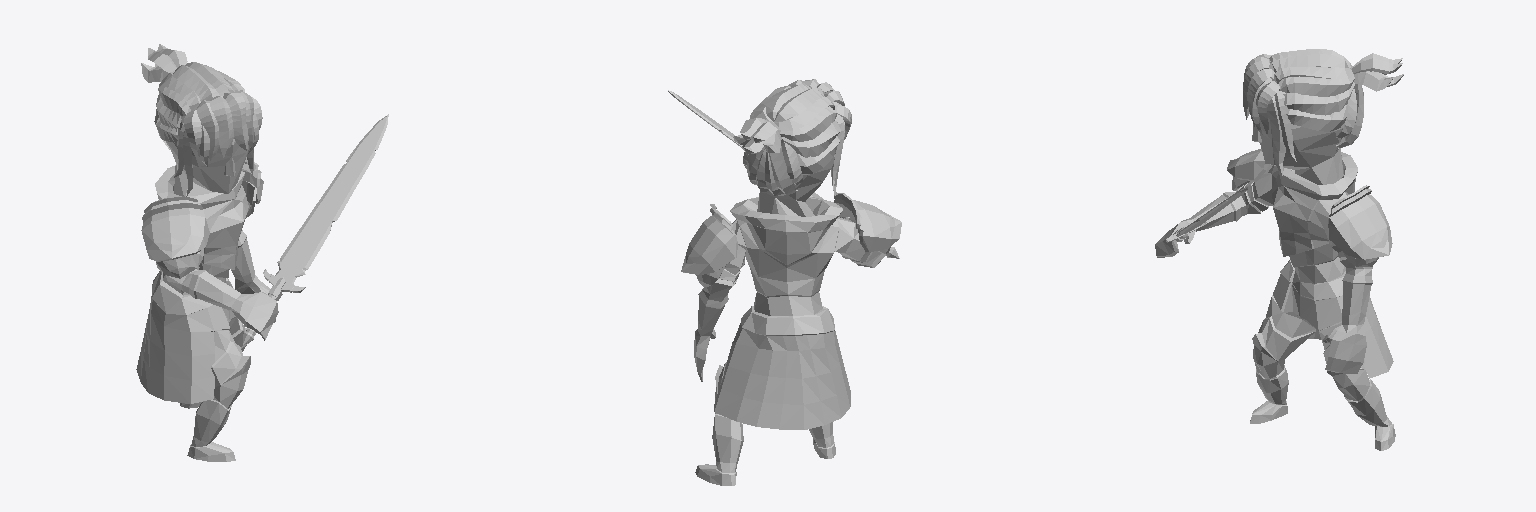
3 renders of one model, left to right at view 1: azimuth 30°, elevation 25°; view 2: azimuth 150°, elevation 25°; view 3: azimuth 270°, elevation 25°, orthographic.
Parts seen in each view (by area): view 1: Warrior.002__ncl1_29.005, Face__ncl1_29.002, Warrior_Sword_Cylinder.001, Shoulder.R__ncl1_29.001, Shoulder.L__ncl1_29.000; view 2: Warrior.002__ncl1_29.005, Face__ncl1_29.002, Shoulder.L__ncl1_29.000, Shoulder.R__ncl1_29.001, Warrior_Sword_Cylinder.001; view 3: Warrior.002__ncl1_29.005, Face__ncl1_29.002, Shoulder.L__ncl1_29.000, Shoulder.R__ncl1_29.001, Warrior_Sword_Cylinder.001.
Boxes of the visible parts, x1,y1,x2,y2 form: Warrior.002__ncl1_29.005: [136, 116, 278, 461]; Face__ncl1_29.002: [141, 44, 262, 196]; Warrior_Sword_Cylinder.001: [243, 114, 388, 344]; Shoulder.R__ncl1_29.001: [141, 196, 209, 278]; Shoulder.L__ncl1_29.000: [242, 157, 263, 217]; Warrior.002__ncl1_29.005: [694, 121, 885, 485]; Face__ncl1_29.002: [733, 79, 851, 195]; Shoulder.L__ncl1_29.000: [681, 204, 737, 286]; Shoulder.R__ncl1_29.001: [834, 192, 901, 253]; Warrior_Sword_Cylinder.001: [668, 90, 899, 258]; Warrior.002__ncl1_29.005: [1155, 112, 1395, 450]; Face__ncl1_29.002: [1243, 49, 1403, 175]; Shoulder.L__ncl1_29.000: [1328, 185, 1392, 266]; Shoulder.R__ncl1_29.001: [1227, 149, 1272, 191]; Warrior_Sword_Cylinder.001: [1165, 187, 1247, 242].
Bounding box in the file's own units: 1.87 × 2.84 × 1.74.